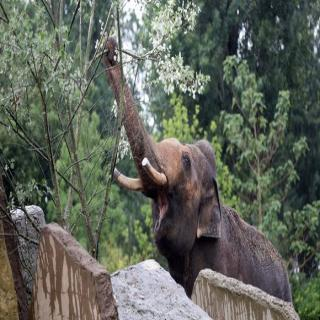Elephant: (99, 31, 297, 315)
